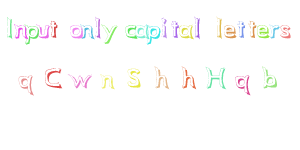C: (41, 65, 66, 91)
H: (200, 61, 229, 93)
I: (2, 15, 16, 45)
S: (123, 62, 146, 92)
a: (179, 22, 193, 39), (136, 22, 147, 40)
b: (256, 63, 282, 91)
c: (123, 23, 137, 41)
e: (255, 18, 269, 43), (223, 20, 235, 42)
h: (178, 61, 199, 91), (151, 62, 171, 93)
i: (160, 13, 169, 41)
l: (212, 14, 223, 42), (93, 16, 104, 43), (193, 14, 204, 40)
n: (97, 70, 121, 92), (81, 20, 96, 44), (14, 23, 27, 41)
o: (66, 21, 84, 43)
p: (26, 24, 40, 49), (147, 21, 160, 43)
q: (230, 70, 255, 98), (13, 71, 38, 98)
r: (268, 18, 280, 43)
s: (279, 23, 297, 42)
t: (48, 17, 60, 39), (234, 17, 246, 39), (247, 18, 258, 41), (170, 19, 181, 41)
u: (37, 21, 50, 42)
w: (66, 68, 94, 91)
y: (101, 23, 119, 48)
